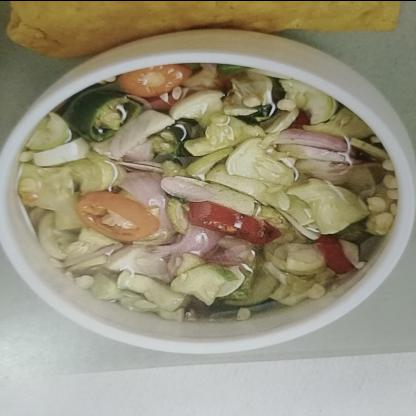Namprig: (12, 49, 405, 340)
